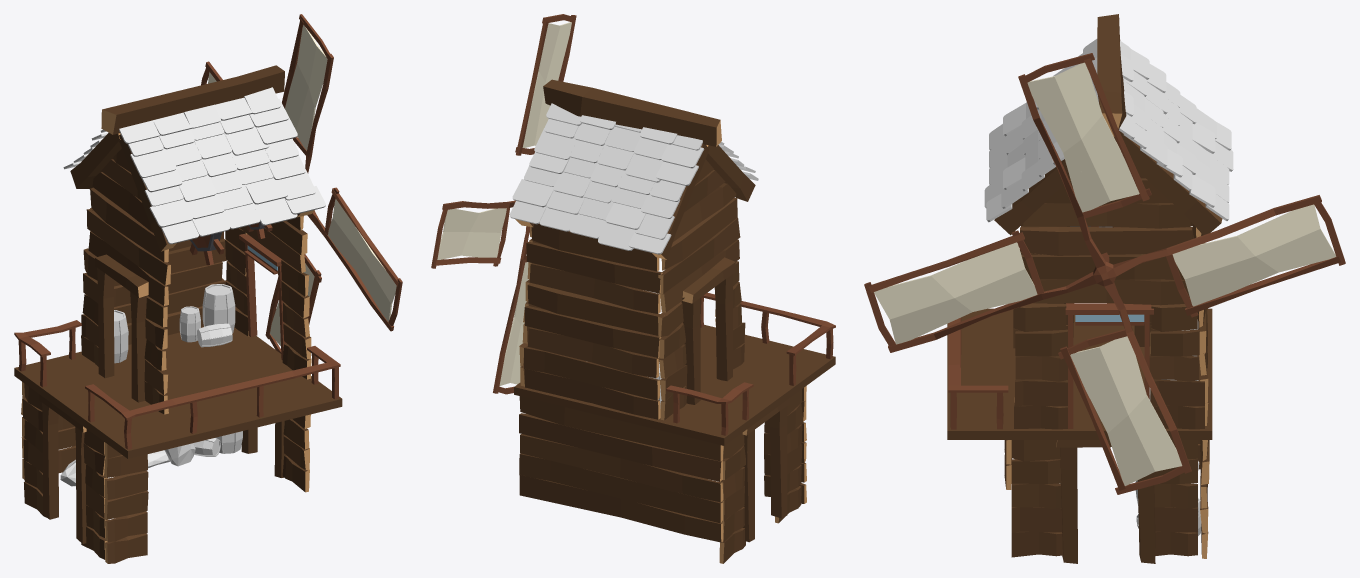
File: mill.fbx
The picture shows the model from 3 angles, left to right: view 1: azimuth 30°, elevation 25°; view 2: azimuth 150°, elevation 25°; view 3: azimuth 270°, elevation 25°; orthographic projection. The views are drawn at different scales.
Parts seen in each view (by area): view 1: Level.004, Floor_2, WindMill, WindMill.001, WindMill.002; view 2: Level.004, WindMill, Floor_2; view 3: Level.004, WindMill, WindMill.001, Floor_2.
Boxes of the visible parts, x1,y1,x2,y2 form: Level.004: (14,65,340,563); Floor_2: (14,326,342,458); WindMill: (201,14,333,353); WindMill.001: (307,187,402,331); WindMill.002: (189,222,272,265); Level.004: (509,79,835,563); WindMill: (431,14,576,394); Floor_2: (514,313,835,445); Level.004: (948,14,1233,563); WindMill: (1018,53,1345,494); WindMill.001: (864,230,1096,352); Floor_2: (947,308,1212,439).
Bounding box in the file's own units: 1288 × 2304 × 1846.
